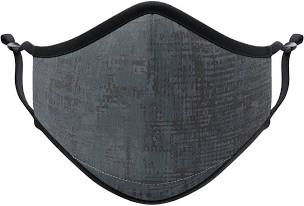FaceMask: (33, 1, 272, 205)
